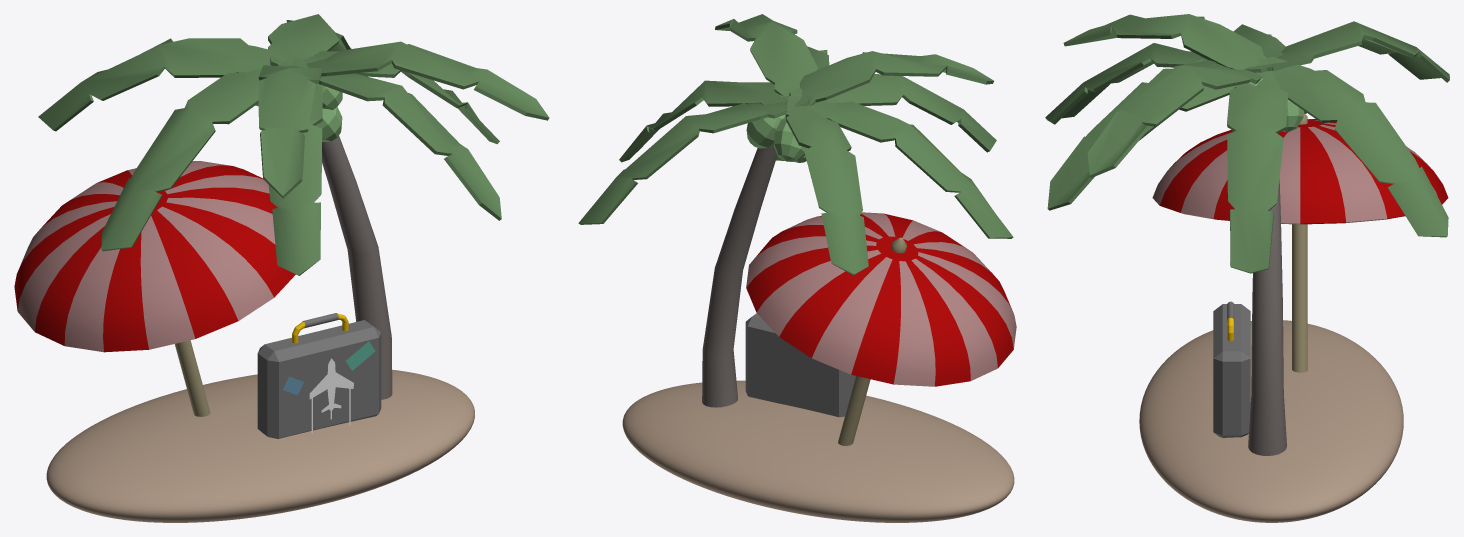
Rendered from Vacations fbx.fbx.
The picture shows the model from 3 angles, left to right: view 1: azimuth 30°, elevation 25°; view 2: azimuth 150°, elevation 25°; view 3: azimuth 270°, elevation 25°; orthographic projection. The views are drawn at different scales.
Parts seen in each view (by area): view 1: polySurface12, pSphere1, polySurface4, pCube1, pCylinder4, pSphere8, pPlane14; view 2: pSphere1, polySurface4, polySurface12, pCylinder4, pCube1, pSphere8; view 3: polySurface12, pSphere1, polySurface4, pCylinder4, pCube1, pSphere8.
Boxes of the visible parts, x1=… form: polySurface12: x1=38, y1=14, x2=549, y2=275; pSphere1: x1=46, y1=369, x2=474, y2=522; polySurface4: x1=14, y1=161, x2=295, y2=416; pCube1: x1=257, y1=320, x2=381, y2=438; pCylinder4: x1=322, y1=135, x2=392, y2=399; pSphere8: x1=255, y1=84, x2=342, y2=142; pPlane14: x1=309, y1=358, x2=353, y2=433; pSphere1: x1=622, y1=380, x2=1014, y2=522; polySurface4: x1=746, y1=212, x2=1016, y2=445; polySurface12: x1=578, y1=14, x2=1013, y2=275; pCylinder4: x1=702, y1=146, x2=775, y2=407; pCube1: x1=745, y1=313, x2=855, y2=417; pSphere8: x1=746, y1=93, x2=807, y2=162; polySurface12: x1=1045, y1=14, x2=1449, y2=273; pSphere1: x1=1139, y1=320, x2=1403, y2=522; polySurface4: x1=1152, y1=114, x2=1448, y2=372; pCylinder4: x1=1248, y1=133, x2=1286, y2=455; pCube1: x1=1213, y1=304, x2=1250, y2=437; pSphere8: x1=1232, y1=78, x2=1306, y2=132.
Bounding box in the file's own units: 13.6 × 13.43 × 11.38.
